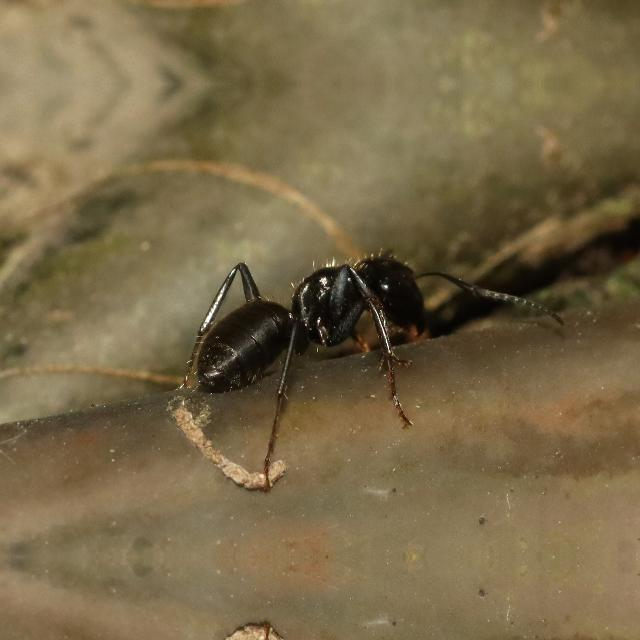Camponotus: (142, 222, 470, 428)
